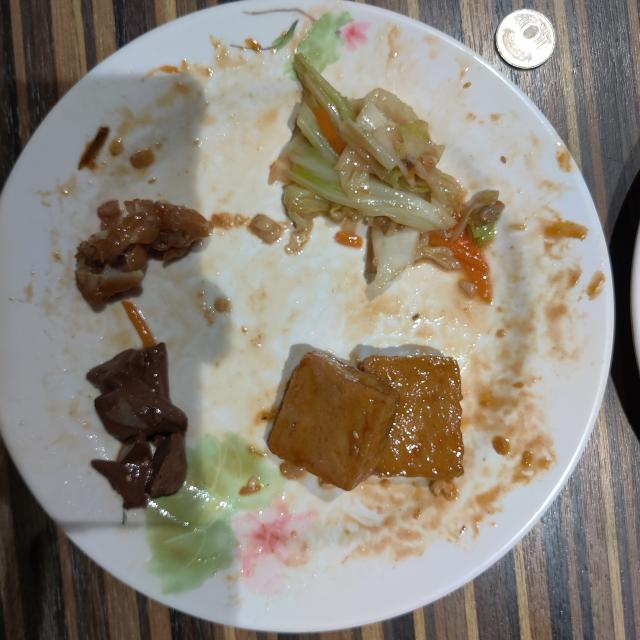Kabayaki sea bream fillet: (75, 199, 212, 306)
cabbage: (270, 51, 504, 302)
coin: (495, 9, 555, 69)
creamy tofu: (268, 351, 464, 490)
pig blood curd: (86, 342, 188, 509)
